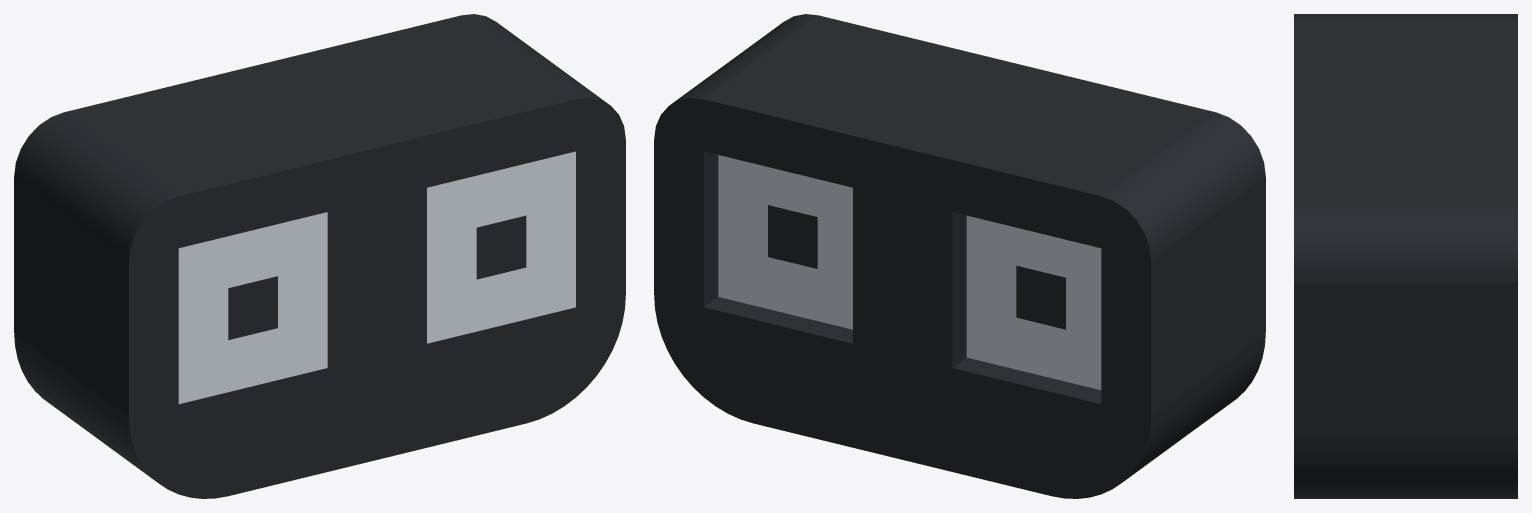
Rendered from single.obj.
3 renders of one model, left to right at view 1: azimuth 30°, elevation 25°; view 2: azimuth 150°, elevation 25°; view 3: azimuth 270°, elevation 25°, orthographic. The views are drawn at different scales.
Bounding box in the file's own units: 10 × 6 × 4.
Materials: 1 (1 with a texture image).
